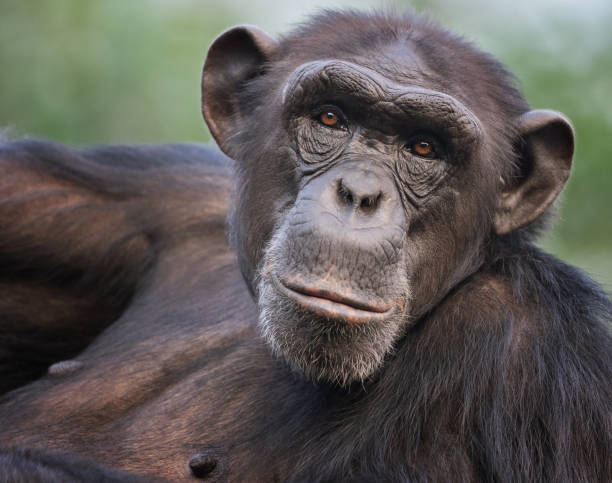chimpanzee: (198, 1, 612, 409)
